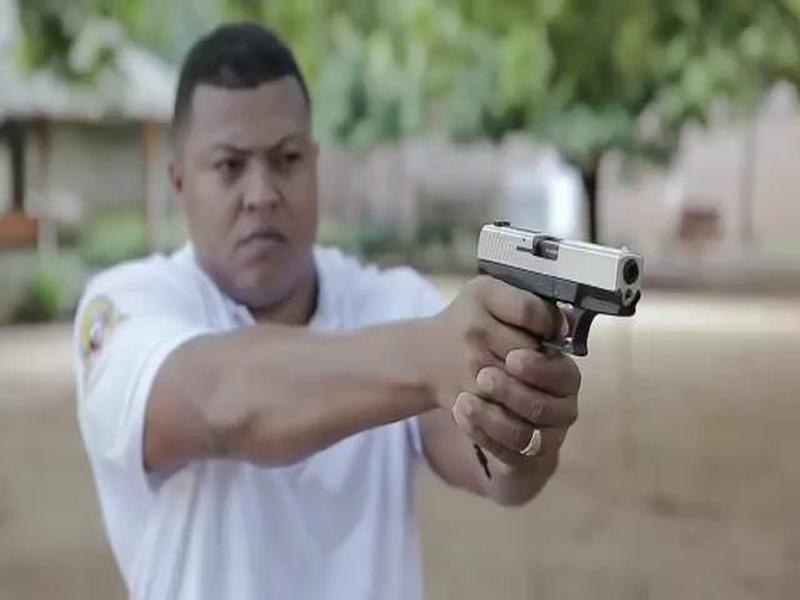Pistola: (470, 206, 647, 387)
